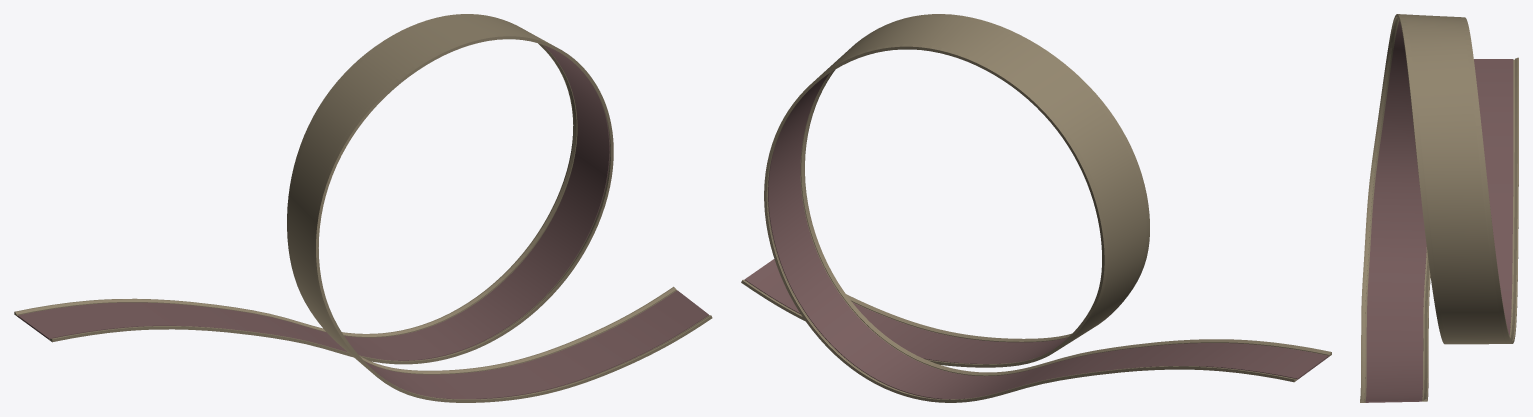
Rendered from Abschnitt2.fbx.
3 views of the same model, side by side, from view 1: azimuth 30°, elevation 25°; view 2: azimuth 150°, elevation 25°; view 3: azimuth 270°, elevation 25° (orthographic). The views are drawn at different scales.
Visible parts, largest first — view 1: StrasseLooping; view 2: StrasseLooping; view 3: StrasseLooping.
Boxes of the visible parts, x1=… form: StrasseLooping: x1=14, y1=14, x2=712, y2=402; StrasseLooping: x1=741, y1=14, x2=1331, y2=402; StrasseLooping: x1=1360, y1=14, x2=1518, y2=402.
Size of the model in its own units: 38541 by 21028 by 9763.
